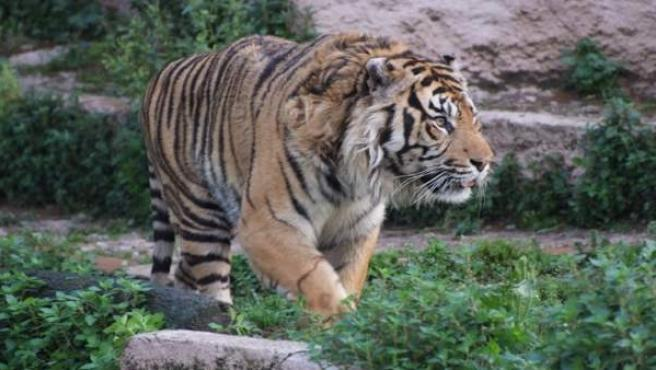Tigrew: (115, 45, 515, 308)
